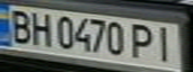0: (51, 13, 75, 51), (106, 19, 130, 56)
4: (72, 16, 93, 52)
7: (87, 16, 109, 54)
B: (3, 7, 36, 45)
H: (27, 10, 54, 47)
I: (151, 24, 181, 63)
P: (127, 20, 160, 61)
